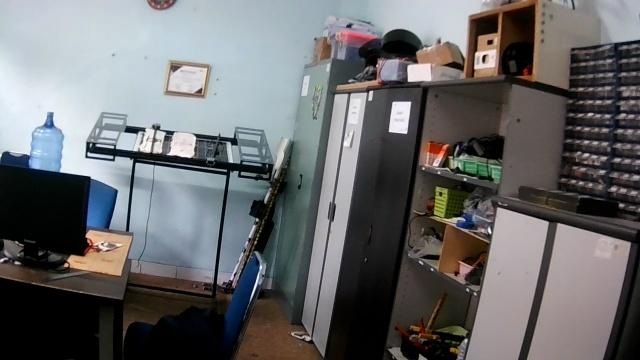AIO PC-Monitor-TV: (0, 164, 91, 267)
Lemari: (321, 82, 427, 358), (460, 203, 635, 359), (298, 88, 367, 355)
Rak: (381, 78, 513, 359)
